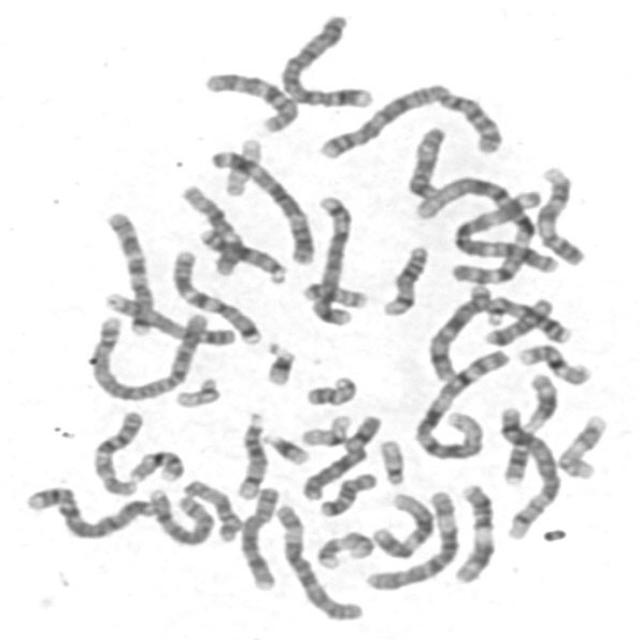A1: (410, 173, 552, 281), (407, 343, 512, 461)
A2: (308, 77, 508, 162), (81, 304, 213, 402)
A3: (204, 143, 316, 267), (444, 180, 563, 280)
B4: (274, 9, 376, 110), (17, 478, 162, 541)
B5: (492, 401, 564, 542), (307, 189, 355, 328)
C10: (197, 65, 302, 134), (85, 404, 146, 498)
C11: (497, 367, 560, 485), (447, 478, 497, 586)
C12: (174, 178, 247, 278), (366, 488, 436, 560)
C6: (269, 498, 367, 622), (359, 483, 464, 592)
C7: (166, 243, 264, 346), (98, 205, 158, 338)
C8: (232, 480, 283, 593), (143, 483, 217, 547)
C9: (98, 286, 240, 347), (532, 160, 588, 268)
D13: (192, 222, 290, 286), (471, 294, 583, 344)
D14: (376, 238, 432, 318), (229, 405, 270, 502)
D15: (177, 474, 244, 544), (401, 120, 449, 202)
E16: (512, 338, 594, 388), (122, 444, 187, 484)
E17: (551, 408, 610, 481), (310, 526, 375, 571)
E18: (479, 293, 558, 348), (313, 466, 380, 519)
F19: (218, 132, 265, 198), (295, 409, 355, 448)
F20: (297, 276, 370, 310), (299, 369, 360, 408)
G21: (256, 427, 311, 467), (258, 336, 298, 388)
G22: (168, 371, 222, 410), (373, 433, 409, 486)
X: (296, 409, 385, 502), (422, 279, 496, 383)
